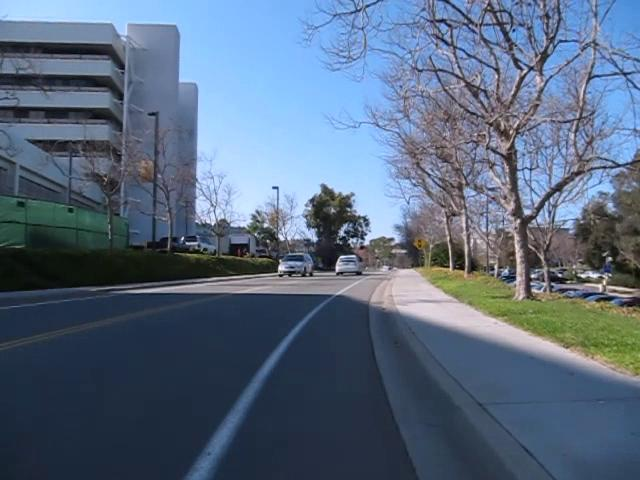signalAhead: (411, 235, 428, 251)
